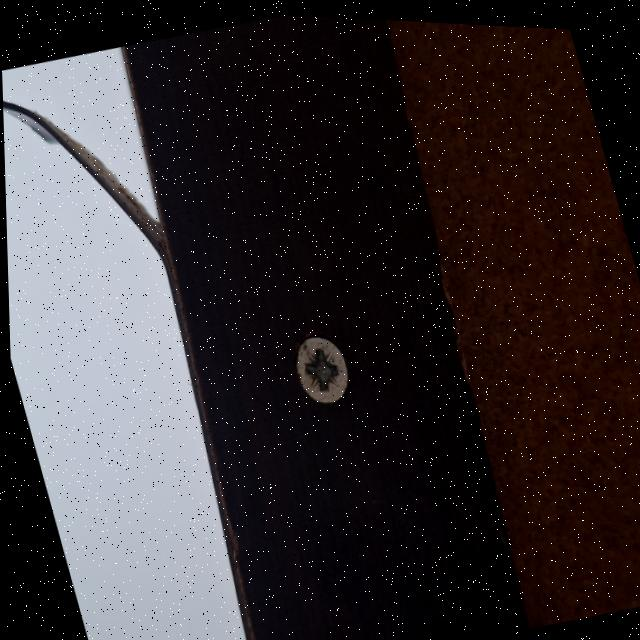Pozidriv: (285, 331, 359, 410)
